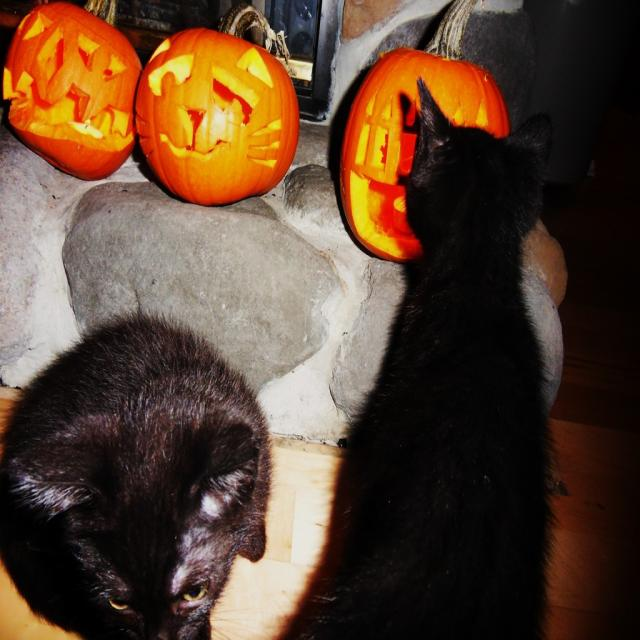Cat: (280, 79, 562, 638), (0, 299, 274, 638)
